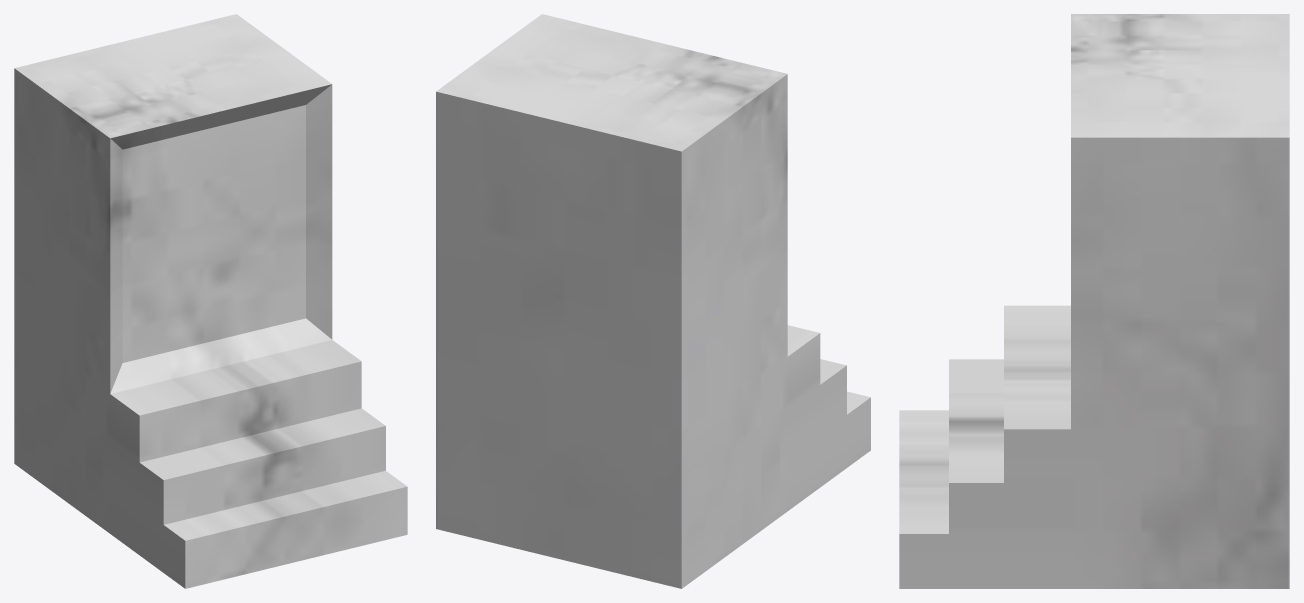
Rendered from pedestal.gltf.
3 renders of one model, left to right at view 1: azimuth 30°, elevation 25°; view 2: azimuth 150°, elevation 25°; view 3: azimuth 270°, elevation 25°, orthographic. The views are drawn at different scales.
Visible parts, largest first — view 1: Cube; view 2: Cube; view 3: Cube.
Boxes of the visible parts, x1,y1,x2,y2 form: Cube: (14,14,407,588); Cube: (436,14,870,588); Cube: (899,14,1289,588).
Size of the model in its own units: 2.68 by 4.55 by 3.57.
1 material, 1 textured.
